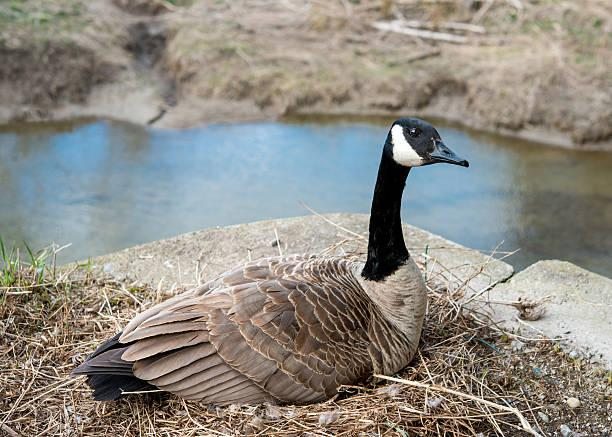Canadian-Goose: (80, 117, 475, 407)
